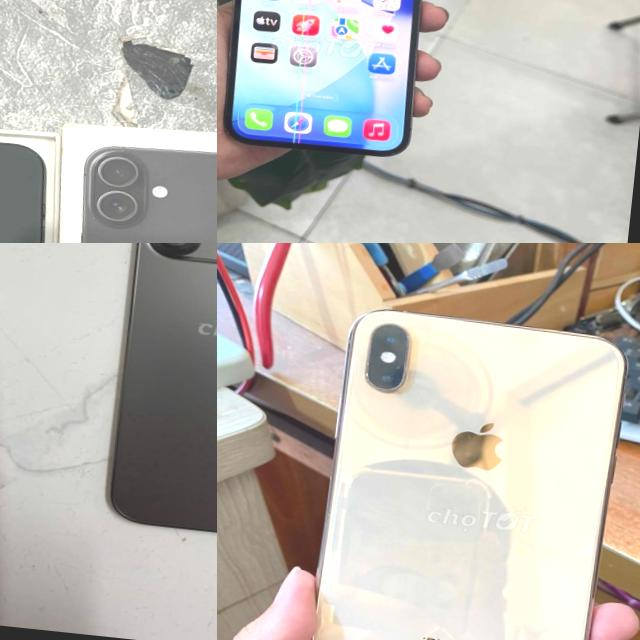screen_defect: (264, 0, 358, 154)
